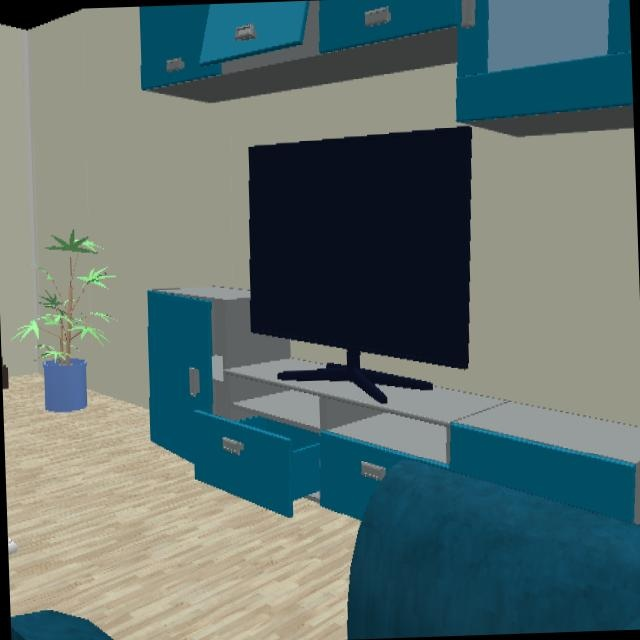cabinet: (145, 288, 640, 528), (138, 0, 634, 138)
monitor: (248, 128, 471, 404)
sofa: (346, 460, 640, 638), (10, 610, 113, 640)
